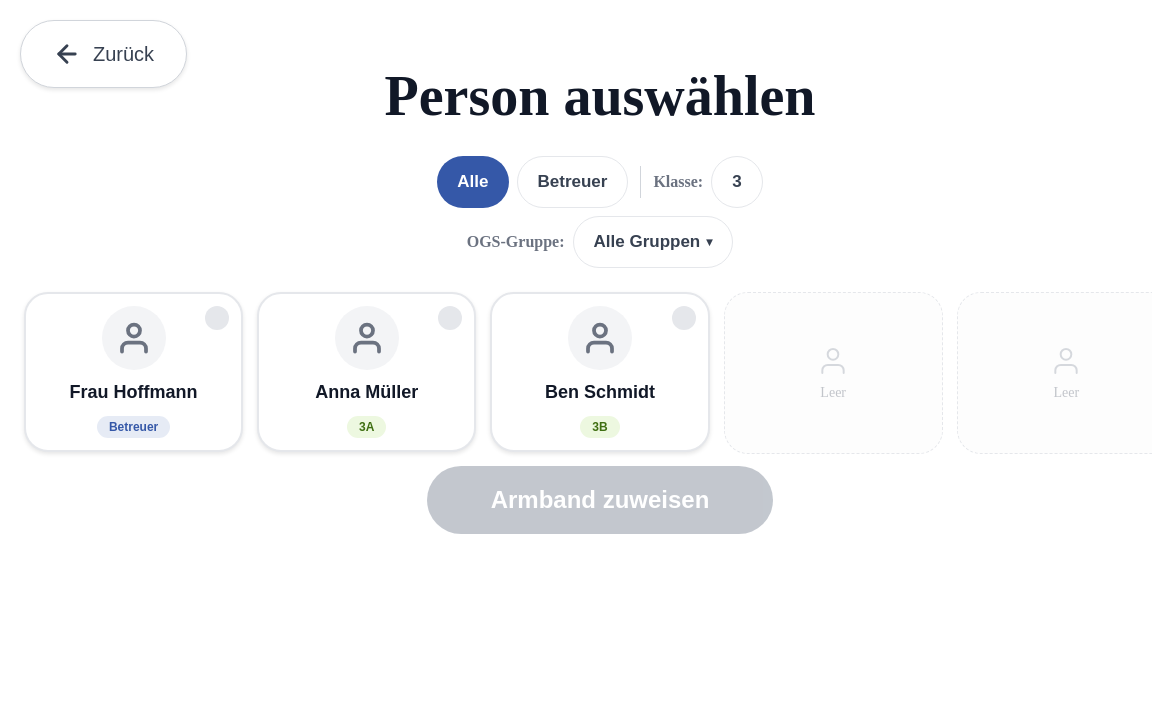
Scenario: StudentSelectionPage › shows "Betreuer" filter to show only staff
Expected: the text "Anna Müller" is shown, [315,382,418,404]
"Betreuer" appears as both a filter chip and a badge — click the first one (filter chip)
Click the button "Betreuer" at [572, 182], box [516,156,628,208]
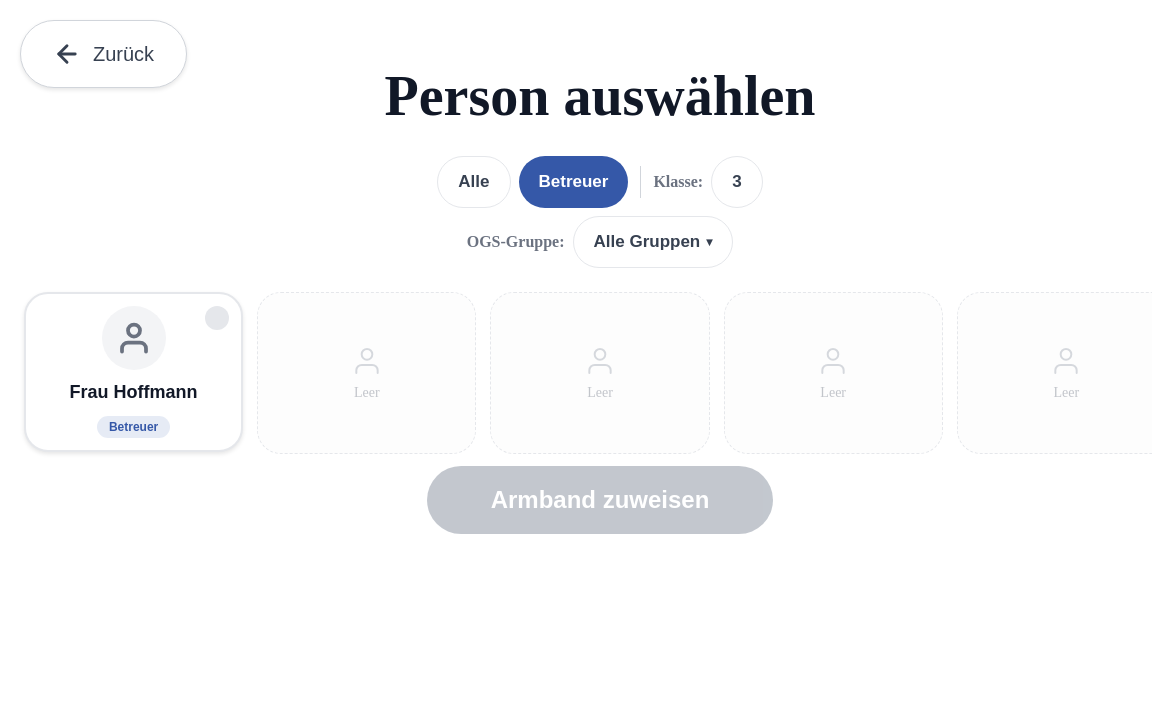
Expected: the text "Frau Hoffmann" is shown, [70,382,198,404]
Expected: the button "Anna Müller" is gone
